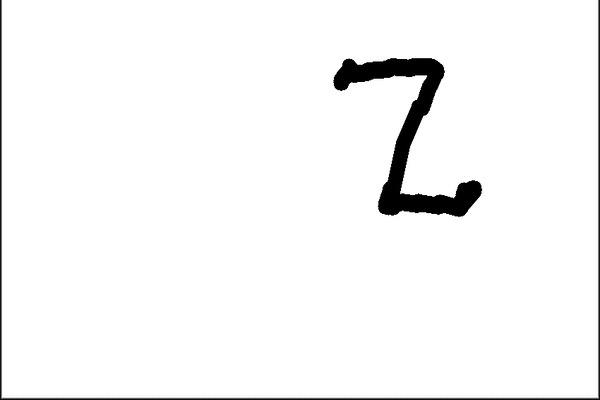Z: (322, 44, 490, 223)
